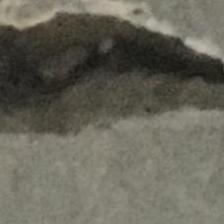Crack: (0, 0, 224, 204)
